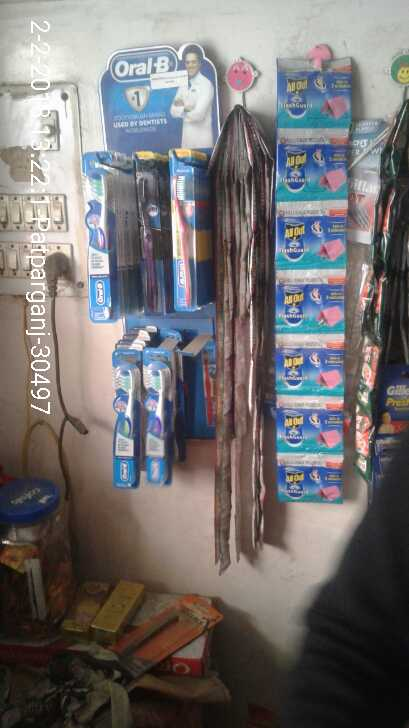oralb: (83, 165, 123, 320), (107, 340, 139, 486), (136, 166, 167, 315), (143, 359, 169, 495), (173, 168, 195, 312)
